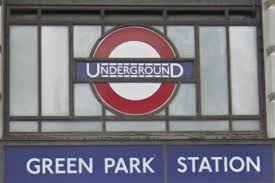London Underground: (74, 23, 195, 114)
